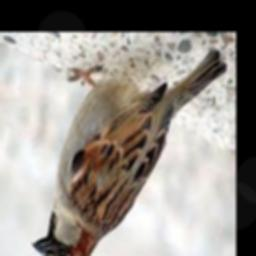Sparrow: (31, 50, 226, 256)
